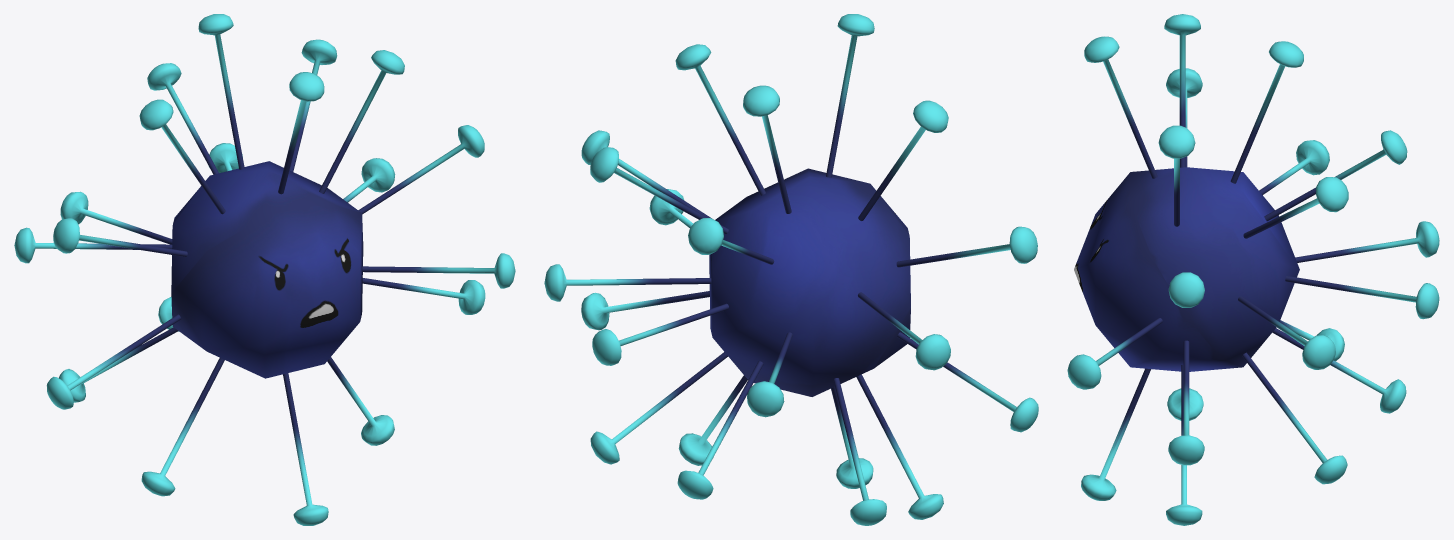
The model's file is Virus_bleu.FBX.
3 views of the same model, side by side, from view 1: azimuth 30°, elevation 25°; view 2: azimuth 150°, elevation 25°; view 3: azimuth 270°, elevation 25° (orthographic). The views are drawn at different scales.
Parts seen in each view (by area): view 1: Enemy_virus05; view 2: Enemy_virus05; view 3: Enemy_virus05.
Boxes of the visible parts, left/top/right/bottom form: Enemy_virus05: left=14, top=14, right=515, bottom=525; Enemy_virus05: left=544, top=14, right=1038, bottom=525; Enemy_virus05: left=1067, top=14, right=1439, bottom=525.
Size of the model in its own units: 71.03 by 70.89 by 52.09.
